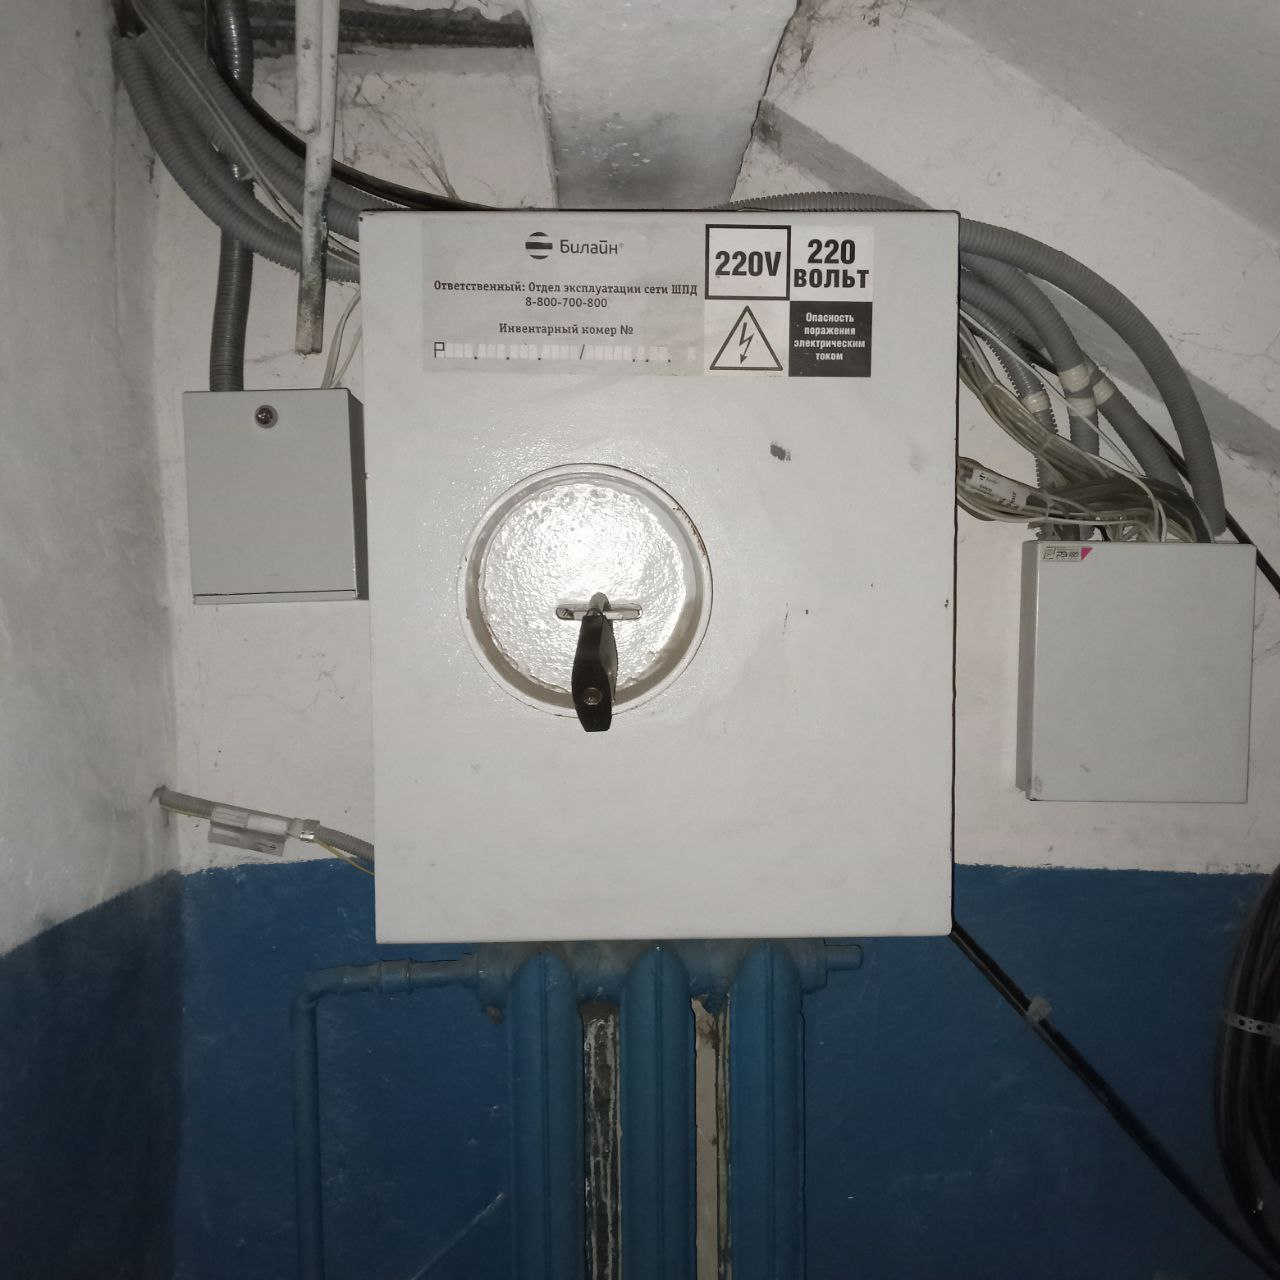shta-3: (354, 209, 961, 949)
